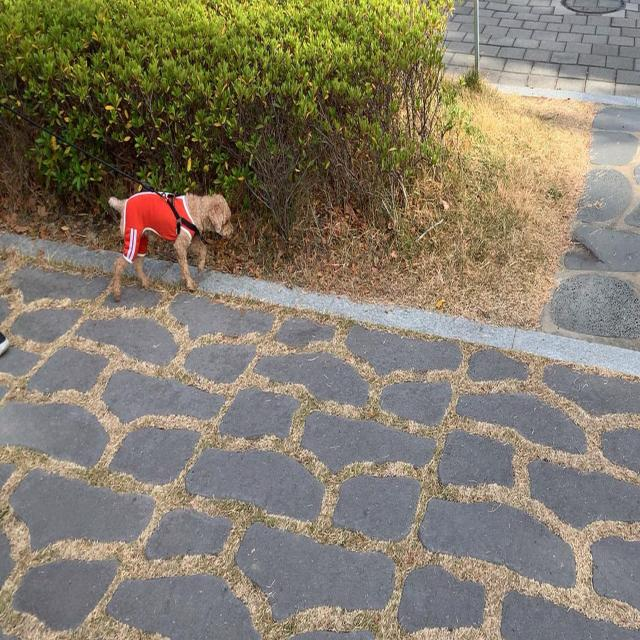Dog: (108, 172, 236, 306)
